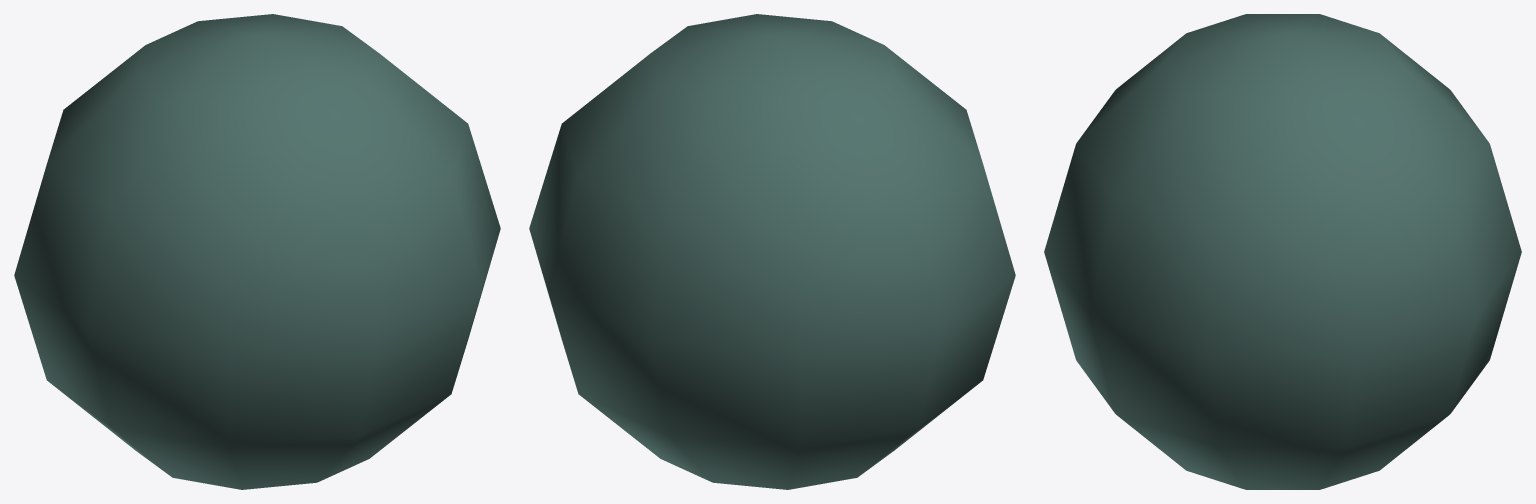
File: SM_Props_Pool_05.fbx
3 views of the same model, side by side, from view 1: azimuth 30°, elevation 25°; view 2: azimuth 150°, elevation 25°; view 3: azimuth 270°, elevation 25° (orthographic).
Visible parts, largest first — view 1: SM_Props_Pool_05; view 2: SM_Props_Pool_05; view 3: SM_Props_Pool_05.
Boxes of the visible parts, box(x1,y1,x2,y2) form: SM_Props_Pool_05: box(14, 14, 500, 489); SM_Props_Pool_05: box(529, 14, 1015, 489); SM_Props_Pool_05: box(1044, 14, 1521, 489).
Bounding box in the file's own units: 0.08 × 0.08 × 0.08.
